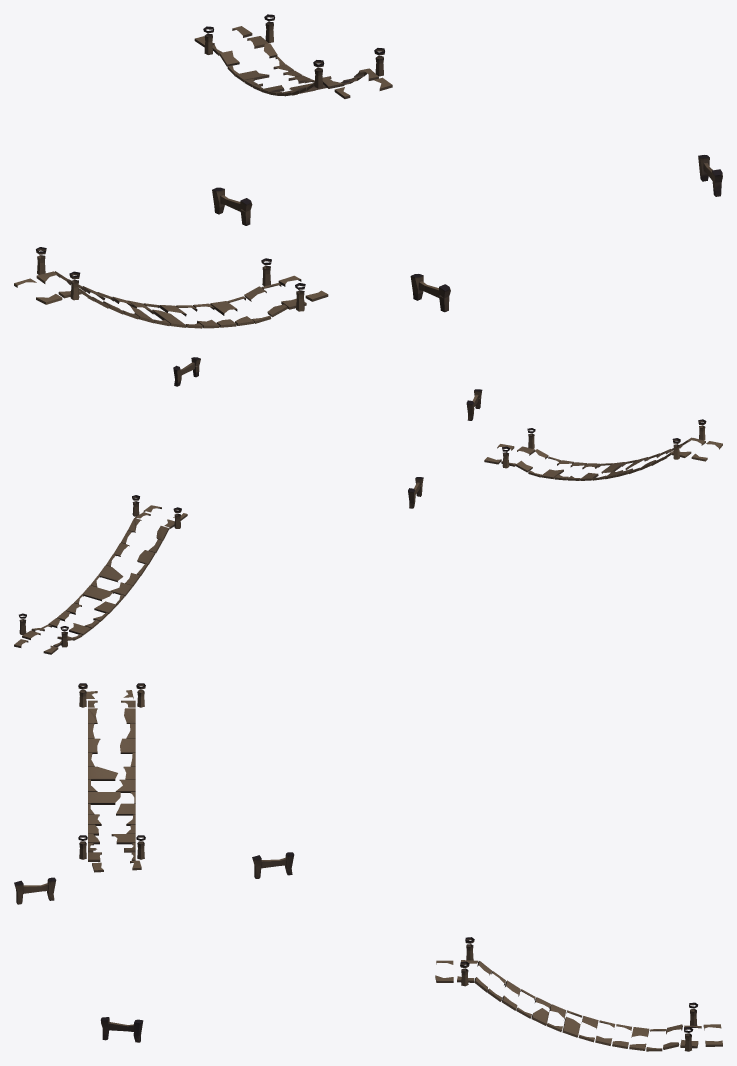
The model's file is Ground_Wood_01.FBX.
3 renders of one model, top to bottom at view 1: azimuth 30°, elevation 25°; view 2: azimuth 150°, elevation 25°; view 3: azimuth 270°, elevation 25°, orthographic. The views are drawn at different scales.
Parts seen in each view (by area): view 1: Ground_Wood_01; view 2: Ground_Wood_01; view 3: Ground_Wood_01.
Boxes of the visible parts, left/top/right/bottom form: Ground_Wood_01: left=14, top=14, right=722, bottom=328; Ground_Wood_01: left=14, top=357, right=722, bottom=654; Ground_Wood_01: left=14, top=683, right=722, bottom=1051.
Bounding box in the file's own units: 29.05 × 6.48 × 29.62.
